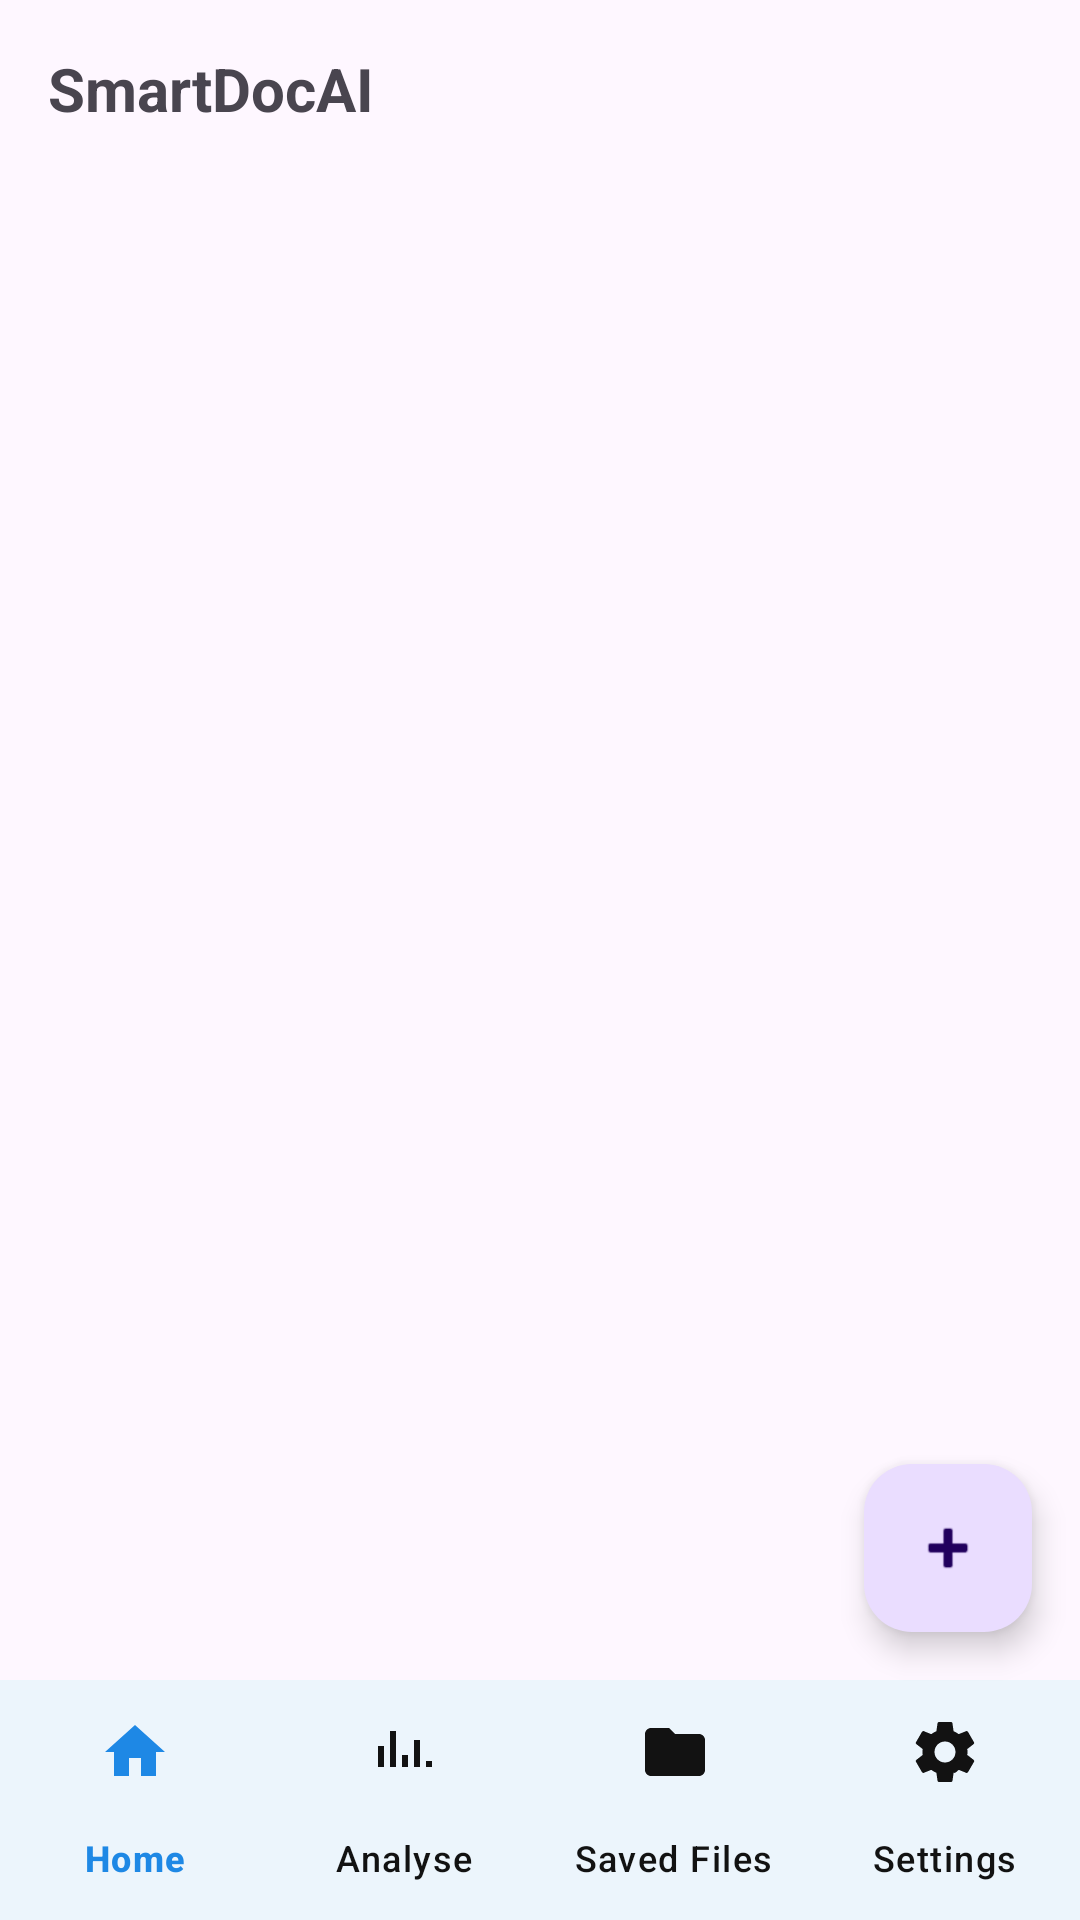

Named icons in this screenshot (1080 x 1920) and their centers, (x=x, y=y):
Quick Actions: (x=948, y=1548)
